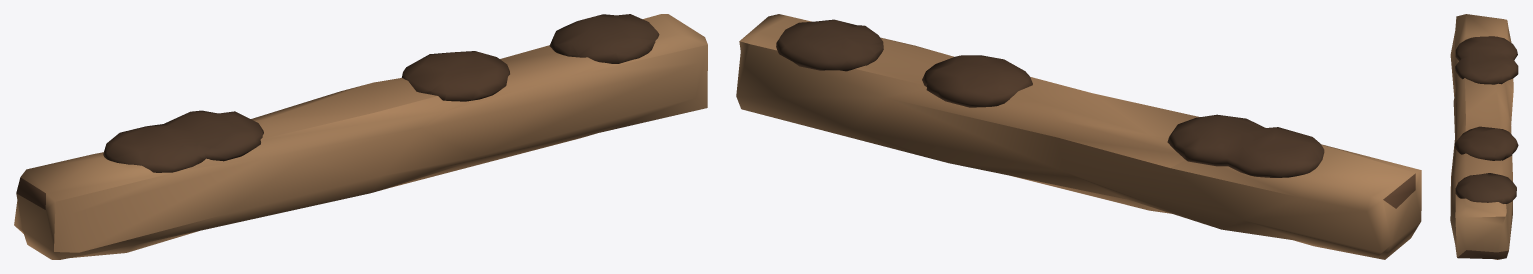
File: canopy_bench_lip_lod2.glb
The picture shows the model from 3 angles, left to right: view 1: azimuth 30°, elevation 25°; view 2: azimuth 150°, elevation 25°; view 3: azimuth 270°, elevation 25°; orthographic projection. The views are drawn at different scales.
Parts seen in each view (by area): view 1: canopy_bench_lip.001; view 2: canopy_bench_lip.001; view 3: canopy_bench_lip.001.
Part boxes in pixels (x1,y1,x2,y2): canopy_bench_lip.001: (14, 14, 707, 259); canopy_bench_lip.001: (736, 14, 1421, 259); canopy_bench_lip.001: (1450, 14, 1518, 259).
Size of the model in its own units: 20.16 by 2.73 by 2.83.
